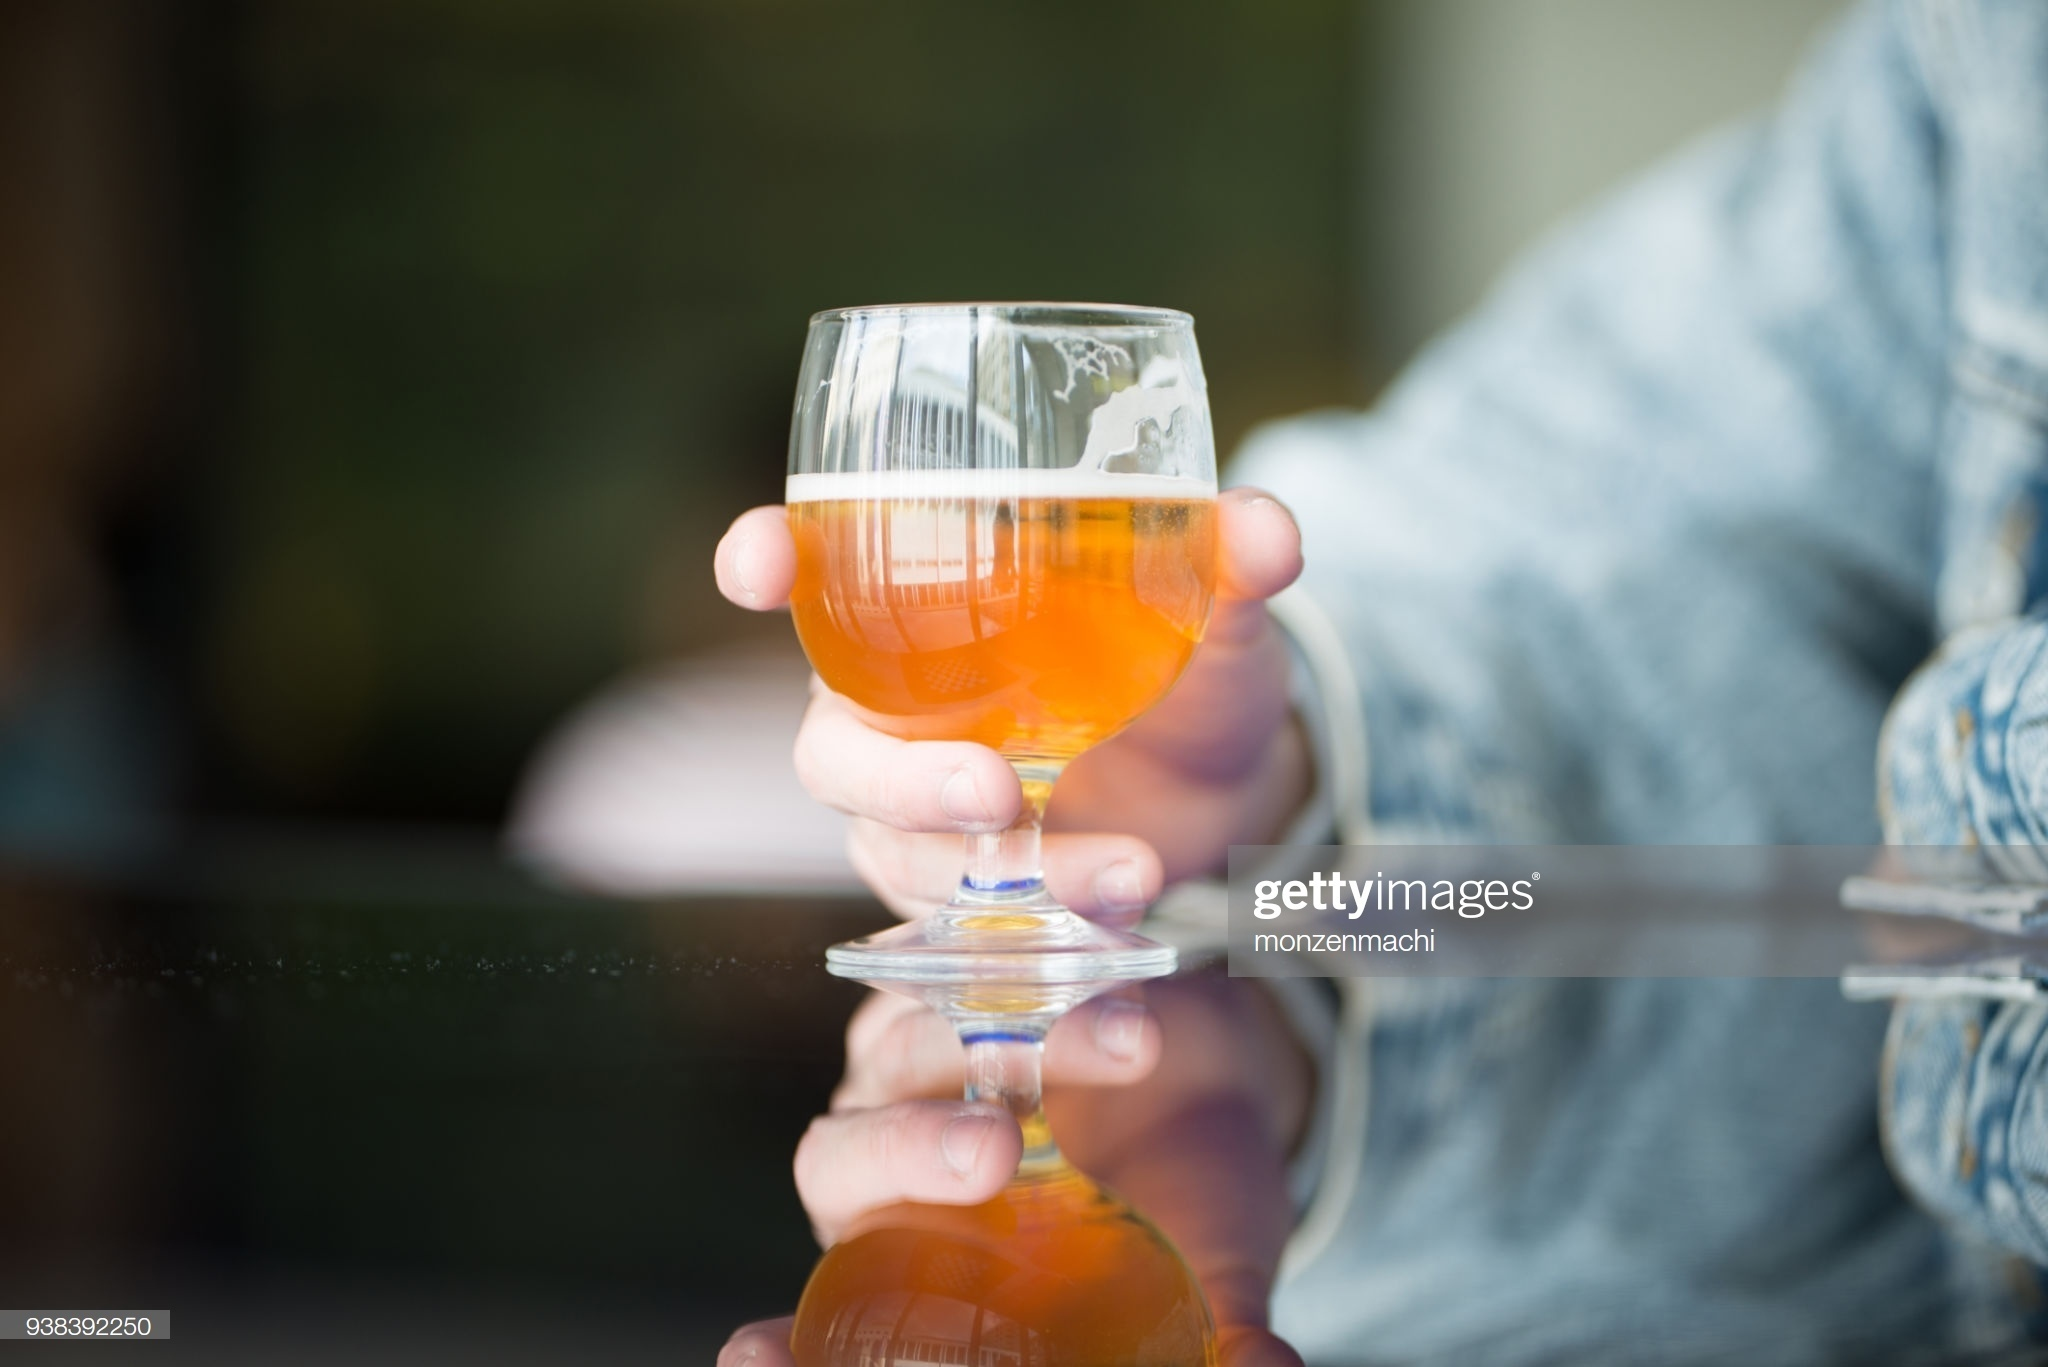whiskey: (767, 296, 1221, 966)
